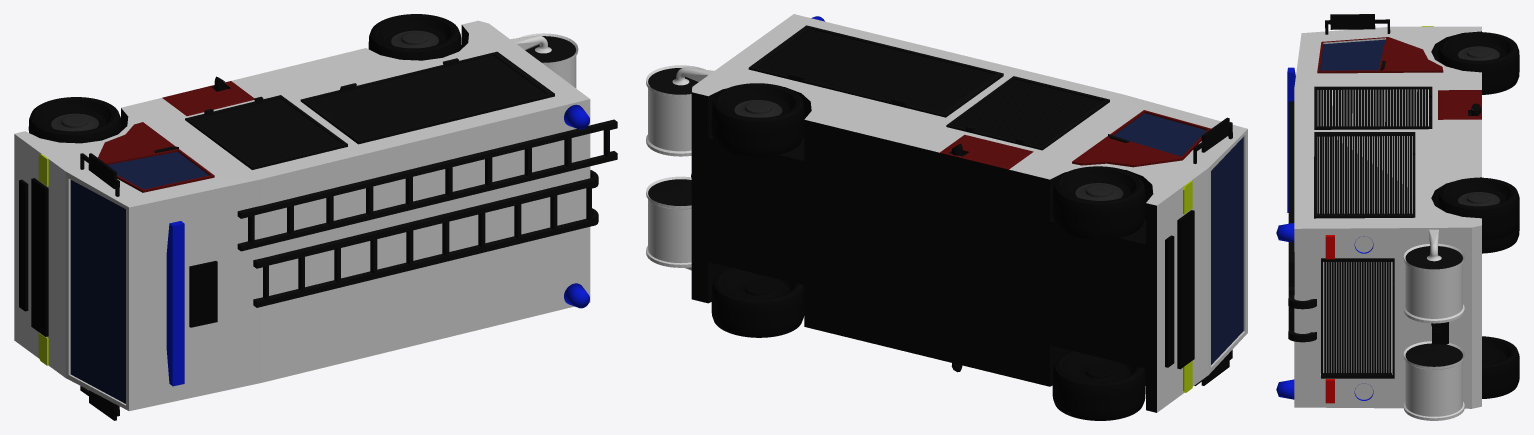
The model's file is Fire_Engine.obj.
3 renders of one model, left to right at view 1: azimuth 30°, elevation 25°; view 2: azimuth 150°, elevation 25°; view 3: azimuth 270°, elevation 25°, orthographic. The views are drawn at different scales.
Parts seen in each view (by area): view 1: Fire_Engine, Cube.001, echelle2, echelle1, Cube.003, LB_Tire, LF_Tire, Cube, Cube.002; view 2: Fire_Engine, Cube.001, LF_Tire, LB_Tire, Cube.003, RB_Tire, RF_Tire, Cube, Cube.002; view 3: Fire_Engine, Cube.005, Cube.001, Cube.003, LB_Tire, LF_Tire, RB_Tire, Cube, Cube.004, echelle1, Cube.002, echelle2 (+6 smaller).
Boxes of the visible parts, <box> form: Fire_Engine: <box>14,20,590,420</box>; Cube.001: <box>309,55,546,139</box>; echelle2: <box>253,170,598,307</box>; echelle1: <box>237,119,617,251</box>; Cube.003: <box>191,98,341,165</box>; LB_Tire: <box>368,14,461,60</box>; LF_Tire: <box>28,97,121,143</box>; Cube: <box>300,51,554,144</box>; Cube.002: <box>185,95,347,169</box>; Fire_Engine: <box>646,14,1247,412</box>; Cube.001: <box>757,29,994,113</box>; LF_Tire: <box>1052,166,1145,239</box>; LB_Tire: <box>711,83,804,156</box>; Cube.003: <box>952,79,1103,146</box>; RB_Tire: <box>711,268,804,337</box>; RF_Tire: <box>1052,351,1145,420</box>; Cube: <box>748,25,1003,117</box>; Cube.002: <box>946,76,1109,150</box>; Fire_Engine: <box>1287,14,1481,420</box>; Cube.005: <box>1324,262,1390,374</box>; Cube.001: <box>1317,135,1411,213</box>; Cube.003: <box>1318,88,1427,126</box>; LB_Tire: <box>1438,177,1519,240</box>; LF_Tire: <box>1438,32,1519,94</box>; RB_Tire: <box>1482,336,1519,398</box>; Cube: <box>1314,132,1415,218</box>; Cube.004: <box>1321,258,1394,378</box>; echelle1: <box>1288,101,1294,295</box>; Cube.002: <box>1314,86,1432,129</box>; echelle2: <box>1288,295,1316,342</box>.
Size of the model in its own units: 4.34 by 1.93 by 1.95.
